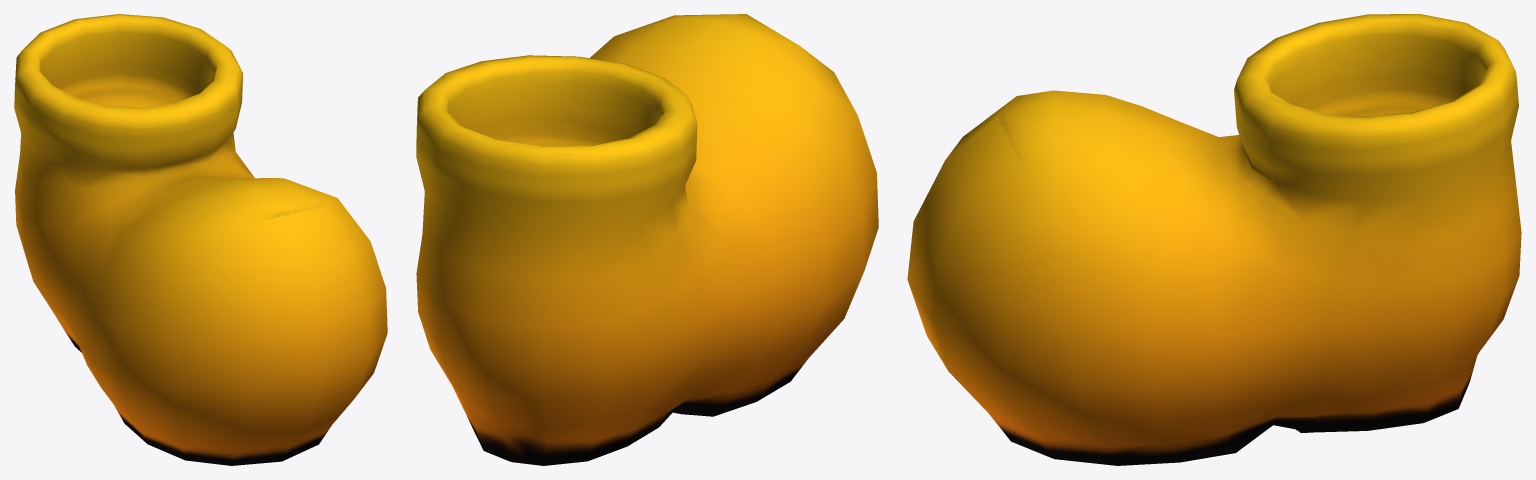
The model's file is boots.fbx.
The picture shows the model from 3 angles, left to right: view 1: azimuth 30°, elevation 25°; view 2: azimuth 150°, elevation 25°; view 3: azimuth 270°, elevation 25°; orthographic projection. The views are drawn at different scales.
Visible parts, largest first — view 1: mIcebert.004; view 2: mIcebert.004; view 3: mIcebert.004.
Part boxes in pixels (<box>): mIcebert.004: <box>14,14,387,465</box>; mIcebert.004: <box>416,14,878,465</box>; mIcebert.004: <box>907,14,1521,465</box>.
Bounding box in the file's own units: 150 × 162 × 251.
